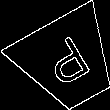P_SE: (38, 31, 97, 93)
